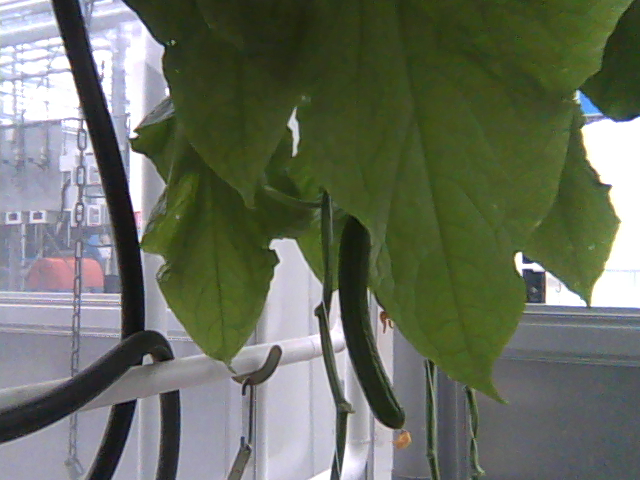concombre: (334, 210, 416, 450)
